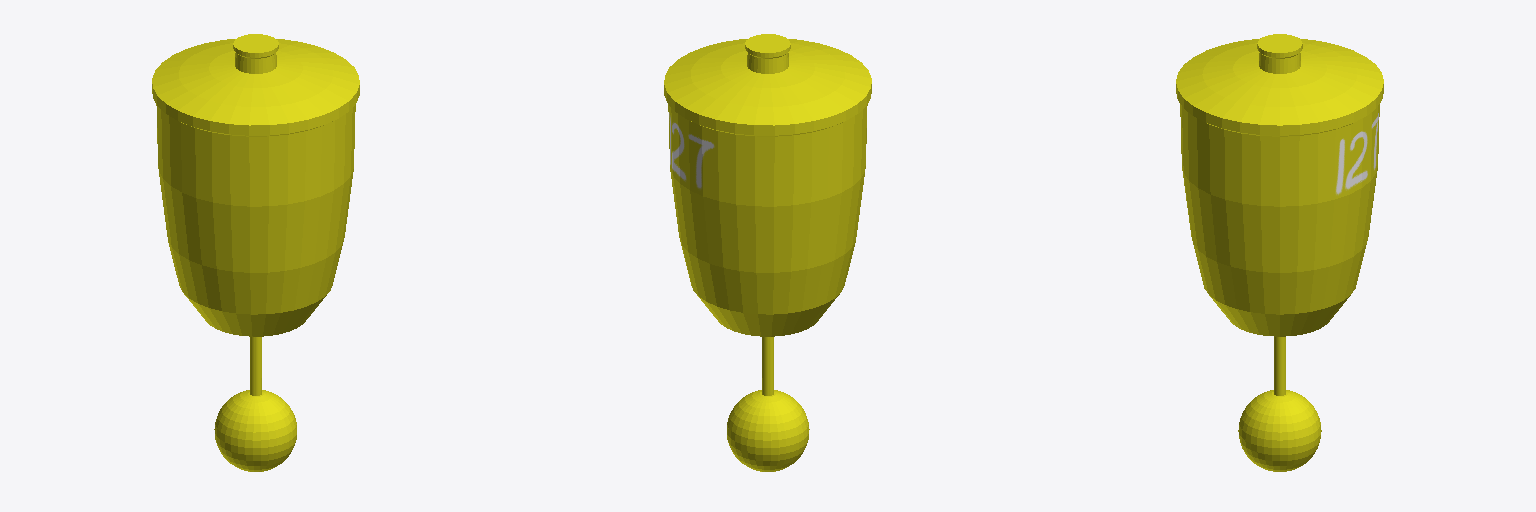
3 renders of one model, left to right at view 1: azimuth 30°, elevation 25°; view 2: azimuth 150°, elevation 25°; view 3: azimuth 270°, elevation 25°, orthographic.
Visible parts, largest first — view 1: Cylinder; view 2: Cylinder; view 3: Cylinder.
Boxes of the visible parts, x1=… form: Cylinder: x1=152, y1=34, x2=359, y2=471; Cylinder: x1=664, y1=34, x2=871, y2=471; Cylinder: x1=1176, y1=34, x2=1383, y2=471.
Size of the model in its own units: 5 by 11.27 by 5.
Materials: 1 (1 with a texture image).